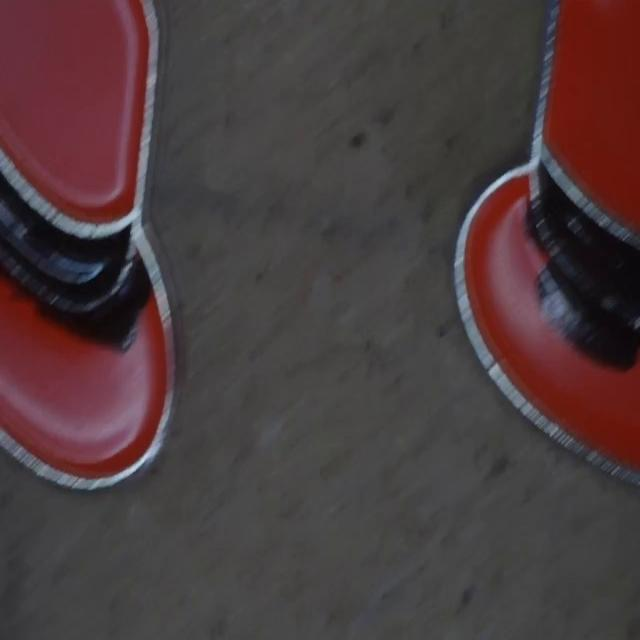Hatband: (530, 162, 640, 334), (0, 174, 132, 312)
Paint_Leak: (538, 260, 640, 369), (50, 253, 152, 351)
RedHatPin: (0, 0, 174, 489)
